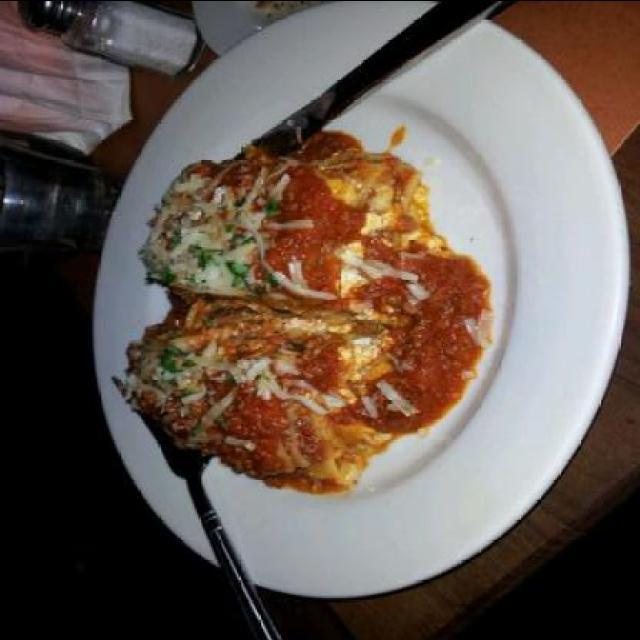Lasagna: (126, 130, 514, 519)
